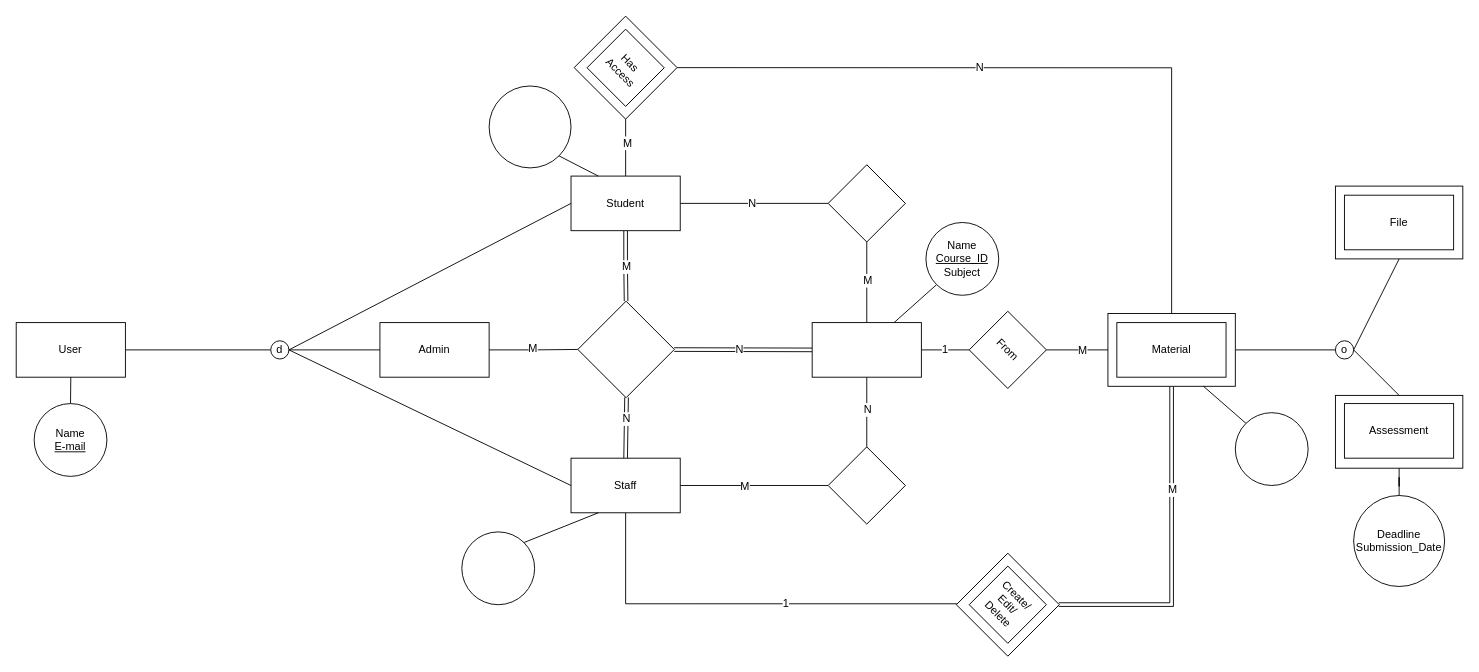
This 1479x672 diagram has some shape labels left out. The box of each missing label's shape, as (x1, y1, x2, y2) in pixels:
Course: (811, 322, 921, 377)
Enrolled in: (827, 164, 906, 242)
Maintenance of: (577, 300, 675, 398)
Manage: (827, 446, 906, 524)
N a m e Visibility: (1234, 412, 1308, 485)
Status Subject: (461, 531, 535, 605)
Year_Of_Study Subject: (488, 85, 571, 168)
